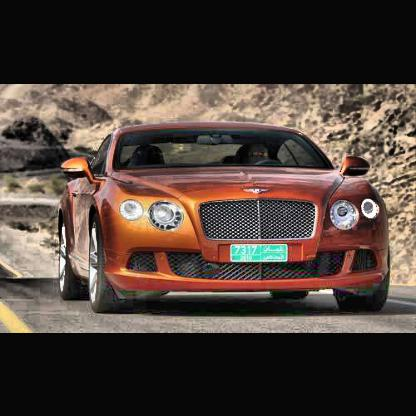Bentley Continental GT Coupe 2012: (59, 118, 398, 318)
